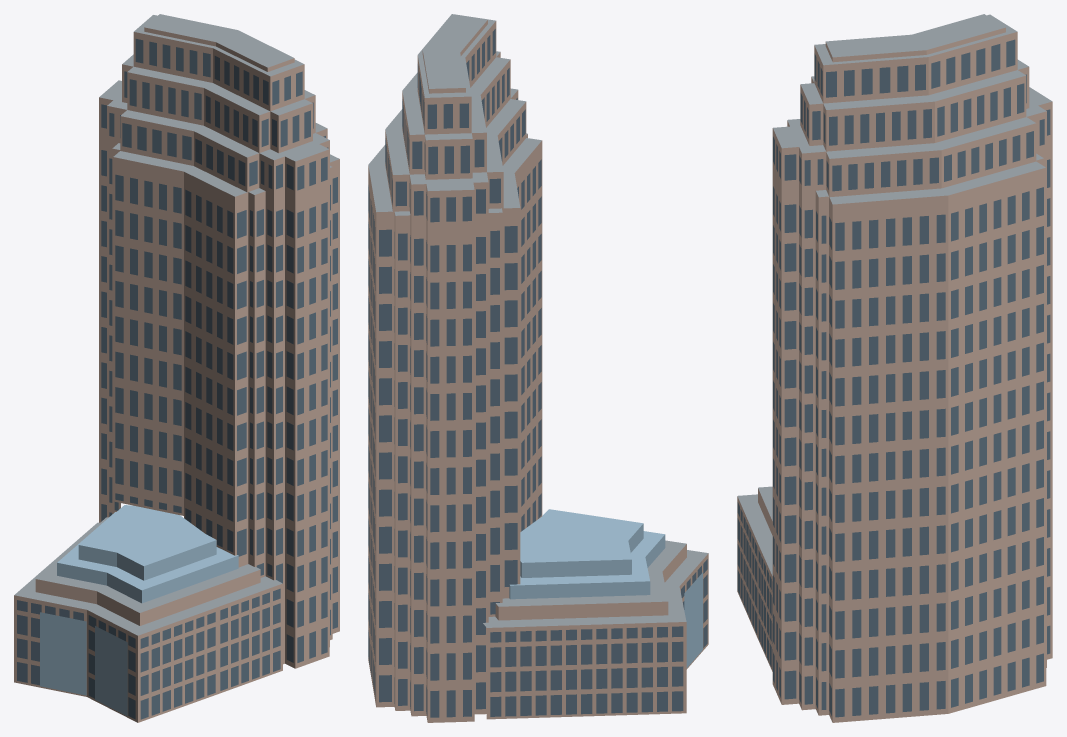
The model's file is cle-200-public-square.glb.
The picture shows the model from 3 angles, left to right: view 1: azimuth 30°, elevation 25°; view 2: azimuth 150°, elevation 25°; view 3: azimuth 270°, elevation 25°; orthographic projection. The views are drawn at different scales.
Visible parts, largest first — view 1: 200 Public Square; view 2: 200 Public Square; view 3: 200 Public Square.
Boxes of the visible parts, bbox=[...] form: 200 Public Square: bbox=[14, 14, 339, 722]; 200 Public Square: bbox=[368, 14, 708, 722]; 200 Public Square: bbox=[737, 14, 1052, 722].
Size of the model in its own units: 107 by 201 by 89.57.
